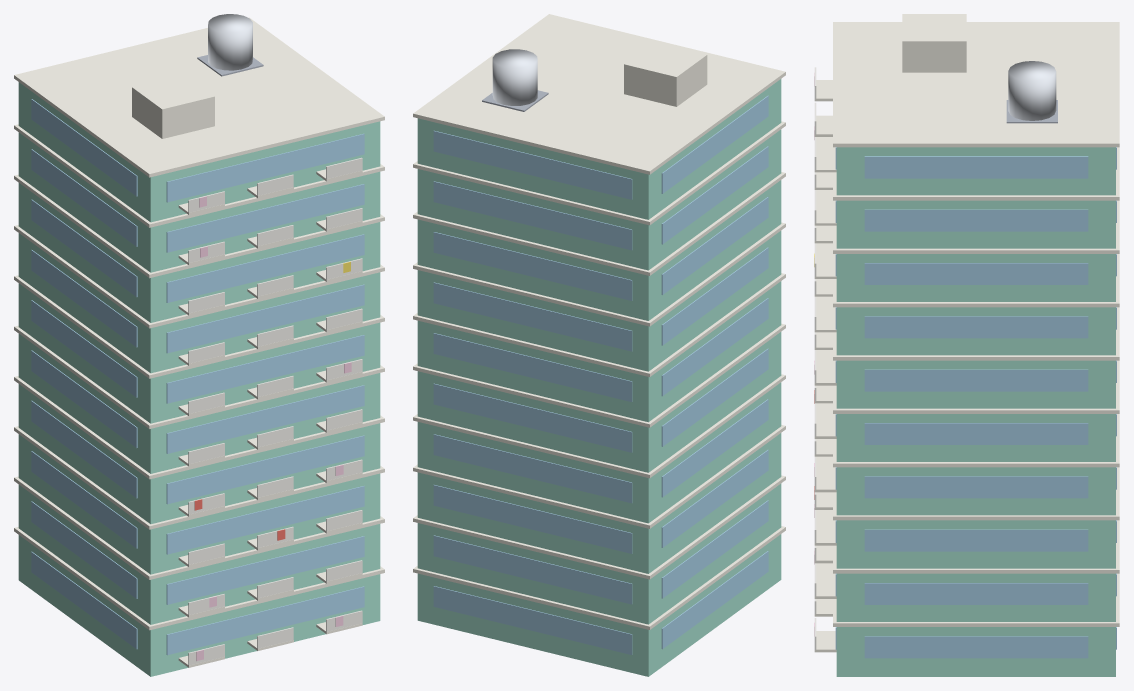
The model's file is Bld_CondoA.fbx.
The picture shows the model from 3 angles, left to right: view 1: azimuth 30°, elevation 25°; view 2: azimuth 150°, elevation 25°; view 3: azimuth 270°, elevation 25°; orthographic projection. The views are drawn at different scales.
Parts seen in each view (by area): view 1: Bld_CondoA; view 2: Bld_CondoA; view 3: Bld_CondoA.
Part boxes in pixels (left/top/right/bottom): Bld_CondoA: left=14, top=14, right=384, bottom=676; Bld_CondoA: left=413, top=14, right=785, bottom=676; Bld_CondoA: left=814, top=14, right=1119, bottom=676.
Bounding box in the file's own units: 15.68 × 34.6 × 16.63.
